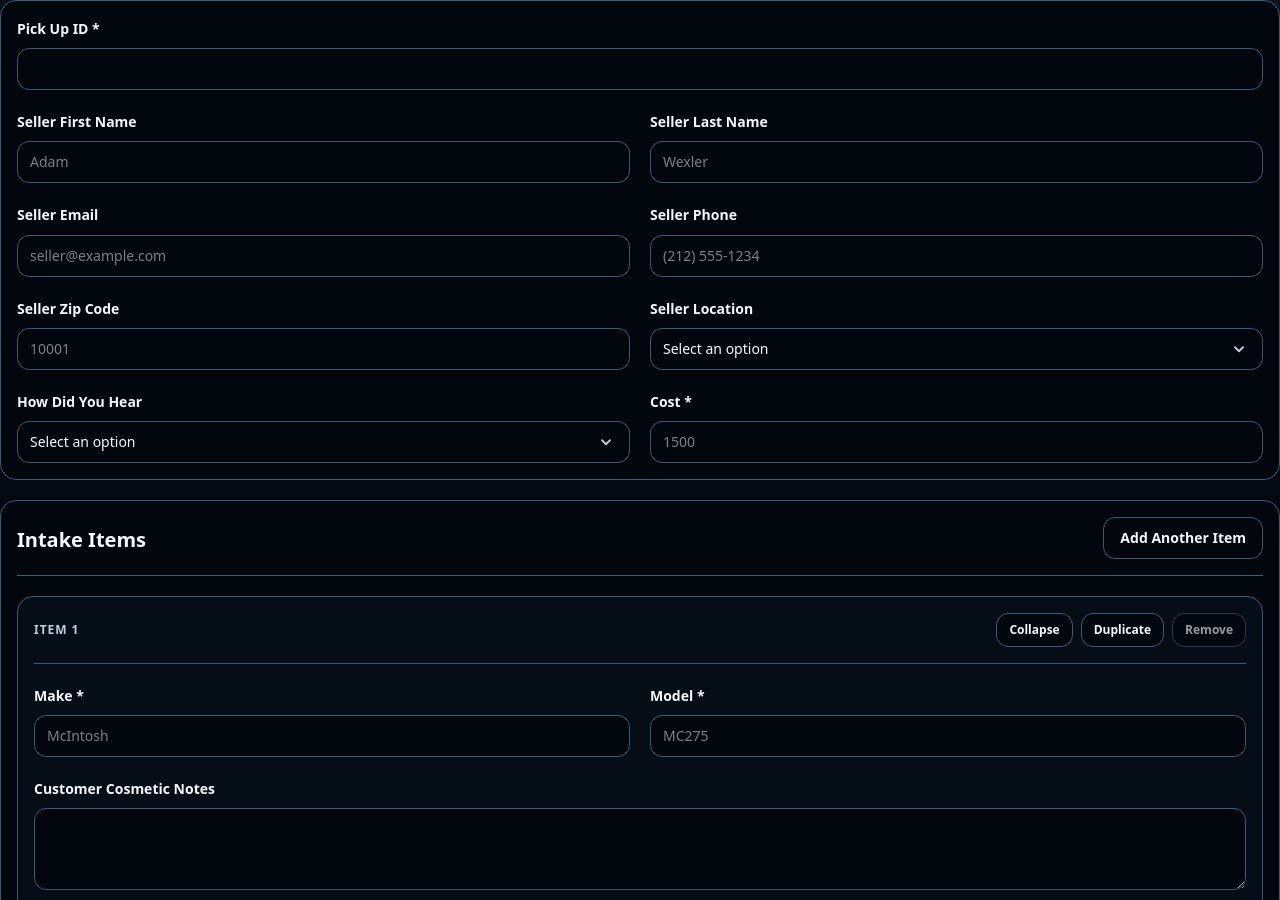
Test case: AirtableEmbeddedForm grouped intake › collapses and expands grouped item details
The image size is (1280, 900).
In the field labelled "Make *": x=332, y=736 [34, 715, 630, 757], type "Nakamichi"
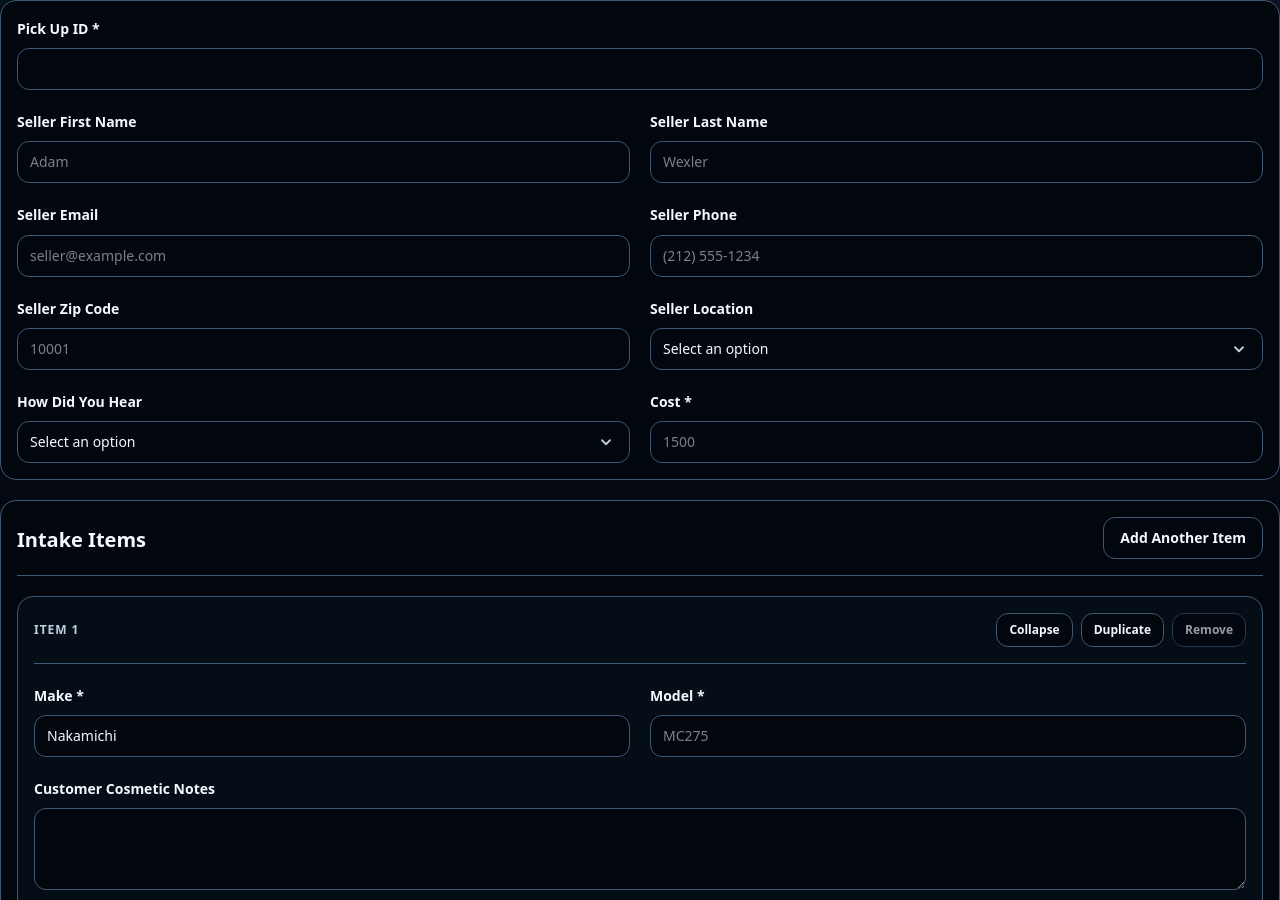
Click the button "Collapse": x=1035, y=630 [996, 613, 1073, 647]
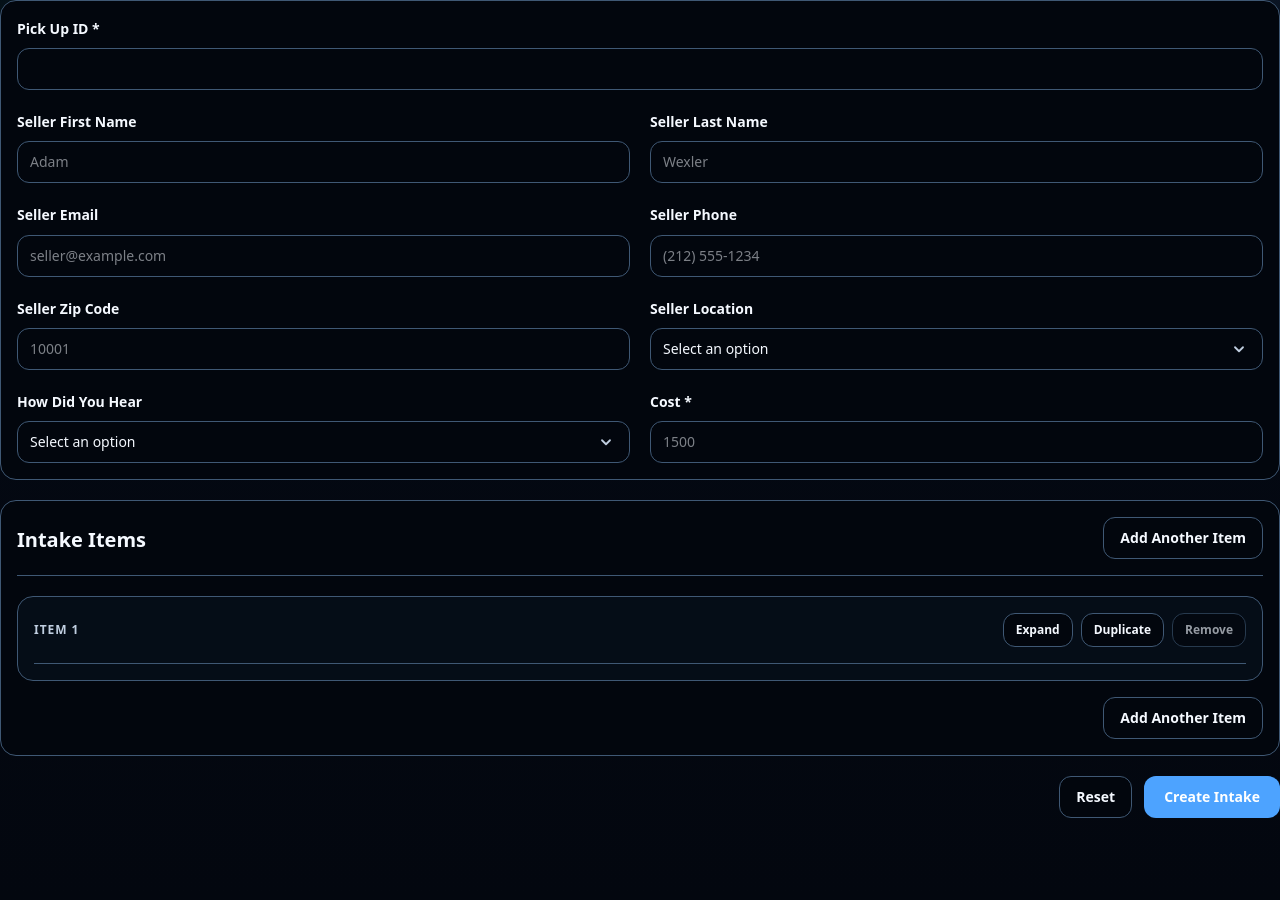
Expected: the text labelled "Make *" is gone
Click the button "Expand": x=1038, y=630 [1003, 613, 1073, 647]
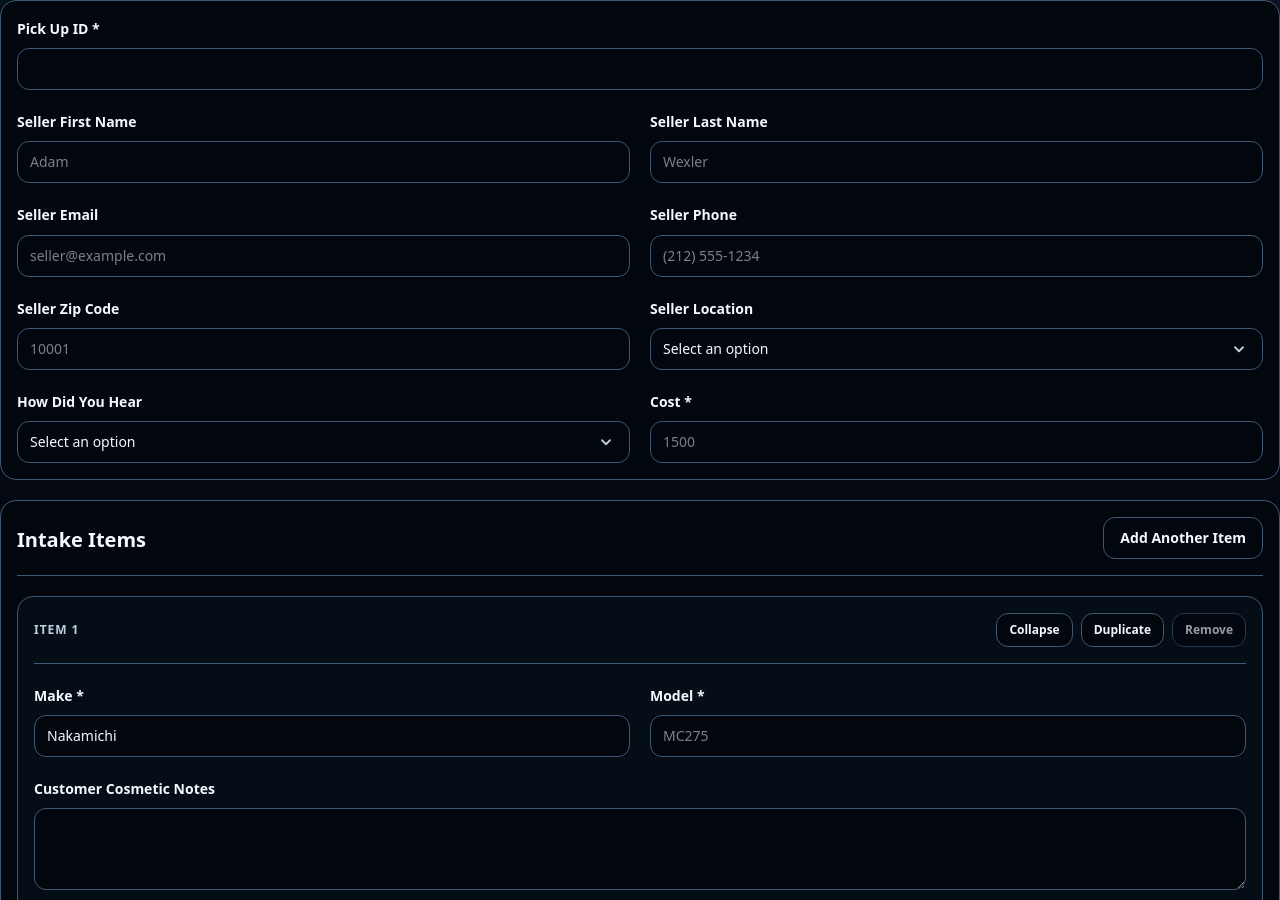
Expected: the field labelled "Make *" is shown, [34, 715, 630, 757]
